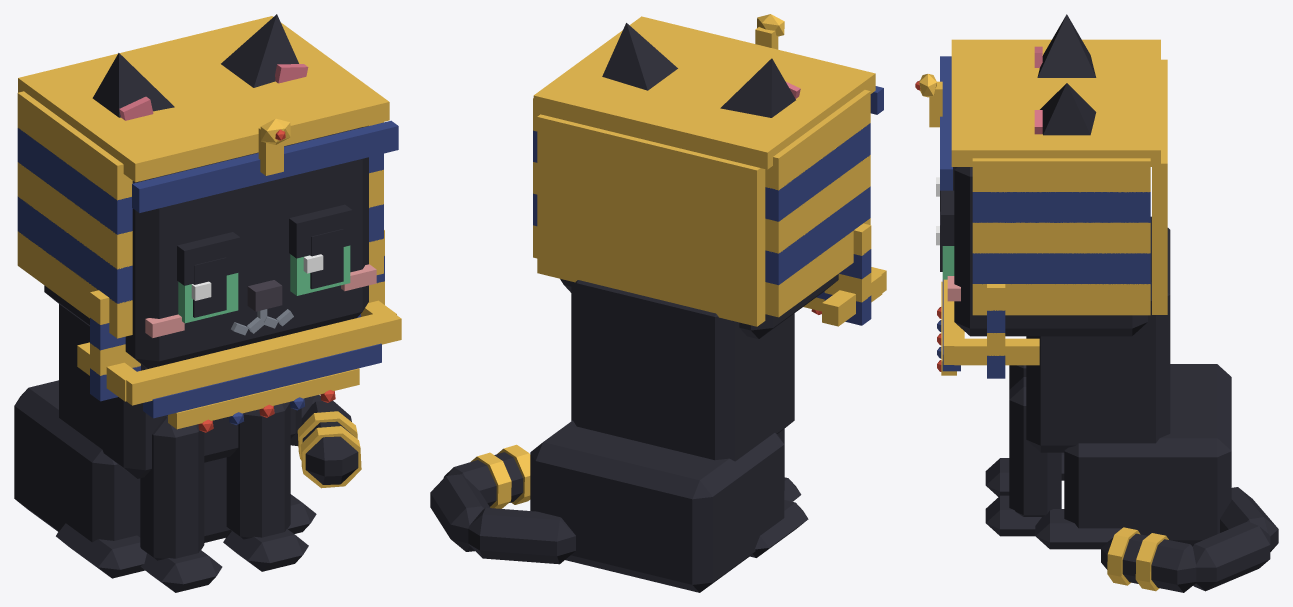
Rendered from CatCafe_Cat_Pharaoh_Sit.fbx.
3 renders of one model, left to right at view 1: azimuth 30°, elevation 25°; view 2: azimuth 150°, elevation 25°; view 3: azimuth 270°, elevation 25°, orthographic. The views are drawn at different scales.
Visible parts, largest first — view 1: CatCafe_Cat_Pharaoh_Sit_Prop, CatCafe_Cat_Pharaoh_Sit_Head, CatCafe_Cat_Pharaoh_Sit_Body, CatCafe_Cat_Pharaoh_Sit_Prop2, CatCafe_Cat_Pharaoh_Sit_LegF2, CatCafe_Cat_Pharaoh_Sit_LegF1, CatCafe_Cat_Pharaoh_Sit_Eye1, CatCafe_Cat_Pharaoh_Sit_Eye2, CatCafe_Cat_Pharaoh_Sit_EarL, CatCafe_Cat_Pharaoh_Sit_Tail, CatCafe_Cat_Pharaoh_Sit_EarR, CatCafe_Cat_Pharaoh_Sit_Tail_Cuffs; view 2: CatCafe_Cat_Pharaoh_Sit_Prop, CatCafe_Cat_Pharaoh_Sit_Body, CatCafe_Cat_Pharaoh_Sit_Tail, CatCafe_Cat_Pharaoh_Sit_EarL, CatCafe_Cat_Pharaoh_Sit_EarR, CatCafe_Cat_Pharaoh_Sit_Tail_Cuffs, CatCafe_Cat_Pharaoh_Sit_Prop2, CatCafe_Cat_Pharaoh_Sit_Head; view 3: CatCafe_Cat_Pharaoh_Sit_Prop, CatCafe_Cat_Pharaoh_Sit_Body, CatCafe_Cat_Pharaoh_Sit_Tail, CatCafe_Cat_Pharaoh_Sit_Head, CatCafe_Cat_Pharaoh_Sit_LegF1, CatCafe_Cat_Pharaoh_Sit_Prop2, CatCafe_Cat_Pharaoh_Sit_EarR, CatCafe_Cat_Pharaoh_Sit_EarL, CatCafe_Cat_Pharaoh_Sit_Tail_Cuffs, CatCafe_Cat_Pharaoh_Sit_Eye1, CatCafe_Cat_Pharaoh_Sit_LegF2.
Part boxes in pixels (x1,y1,x2,y2): CatCafe_Cat_Pharaoh_Sit_Prop: [17, 16, 398, 401]; CatCafe_Cat_Pharaoh_Sit_Head: [44, 127, 376, 368]; CatCafe_Cat_Pharaoh_Sit_Body: [14, 304, 316, 578]; CatCafe_Cat_Pharaoh_Sit_Prop2: [77, 300, 401, 432]; CatCafe_Cat_Pharaoh_Sit_LegF2: [140, 415, 222, 592]; CatCafe_Cat_Pharaoh_Sit_LegF1: [223, 402, 308, 571]; CatCafe_Cat_Pharaoh_Sit_Eye1: [289, 204, 352, 295]; CatCafe_Cat_Pharaoh_Sit_Eye2: [177, 232, 240, 323]; CatCafe_Cat_Pharaoh_Sit_EarL: [221, 14, 308, 87]; CatCafe_Cat_Pharaoh_Sit_Tail: [290, 395, 358, 484]; CatCafe_Cat_Pharaoh_Sit_EarR: [92, 53, 174, 120]; CatCafe_Cat_Pharaoh_Sit_Tail_Cuffs: [297, 411, 361, 488]; CatCafe_Cat_Pharaoh_Sit_Prop: [533, 14, 883, 326]; CatCafe_Cat_Pharaoh_Sit_Body: [530, 280, 808, 592]; CatCafe_Cat_Pharaoh_Sit_Tail: [430, 452, 575, 564]; CatCafe_Cat_Pharaoh_Sit_EarL: [602, 23, 677, 90]; CatCafe_Cat_Pharaoh_Sit_EarR: [720, 58, 800, 117]; CatCafe_Cat_Pharaoh_Sit_Tail_Cuffs: [471, 444, 530, 508]; CatCafe_Cat_Pharaoh_Sit_Prop2: [803, 267, 886, 326]; CatCafe_Cat_Pharaoh_Sit_Head: [560, 274, 838, 338]; CatCafe_Cat_Pharaoh_Sit_Prop: [915, 39, 1167, 378]; CatCafe_Cat_Pharaoh_Sit_Body: [1026, 216, 1231, 549]; CatCafe_Cat_Pharaoh_Sit_Tail: [1101, 487, 1278, 592]; CatCafe_Cat_Pharaoh_Sit_Head: [947, 167, 1147, 336]; CatCafe_Cat_Pharaoh_Sit_LegF1: [985, 377, 1061, 536]; CatCafe_Cat_Pharaoh_Sit_Prop2: [937, 279, 1039, 375]; CatCafe_Cat_Pharaoh_Sit_EarR: [1034, 14, 1096, 77]; CatCafe_Cat_Pharaoh_Sit_EarL: [1034, 83, 1096, 135]; CatCafe_Cat_Pharaoh_Sit_Tail_Cuffs: [1107, 527, 1168, 591]; CatCafe_Cat_Pharaoh_Sit_Eye1: [936, 190, 954, 279]; CatCafe_Cat_Pharaoh_Sit_LegF2: [985, 365, 1026, 496].
Size of the model in its own units: 1.34 by 1.85 by 1.32.
1 material, 1 textured.
